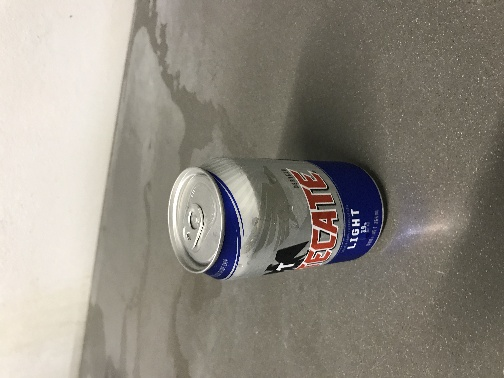TLL: (121, 113, 279, 205)
